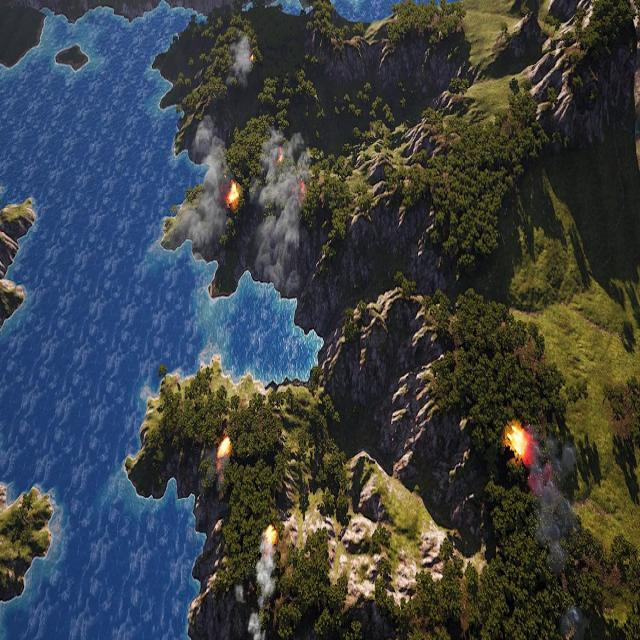fire: (508, 426, 530, 460), (227, 181, 241, 205), (217, 438, 230, 459), (266, 526, 278, 545), (296, 180, 306, 197), (250, 54, 254, 63)
smoke: (251, 128, 311, 298), (526, 431, 579, 575), (185, 117, 231, 253), (239, 536, 278, 640), (226, 34, 253, 89), (557, 606, 591, 640)
